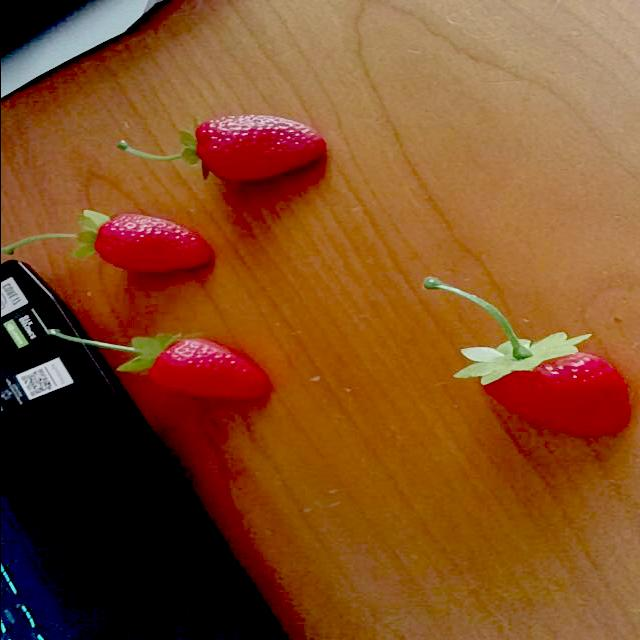ripe: (456, 334, 634, 444), (134, 322, 272, 408), (186, 114, 328, 182), (88, 207, 212, 276)
